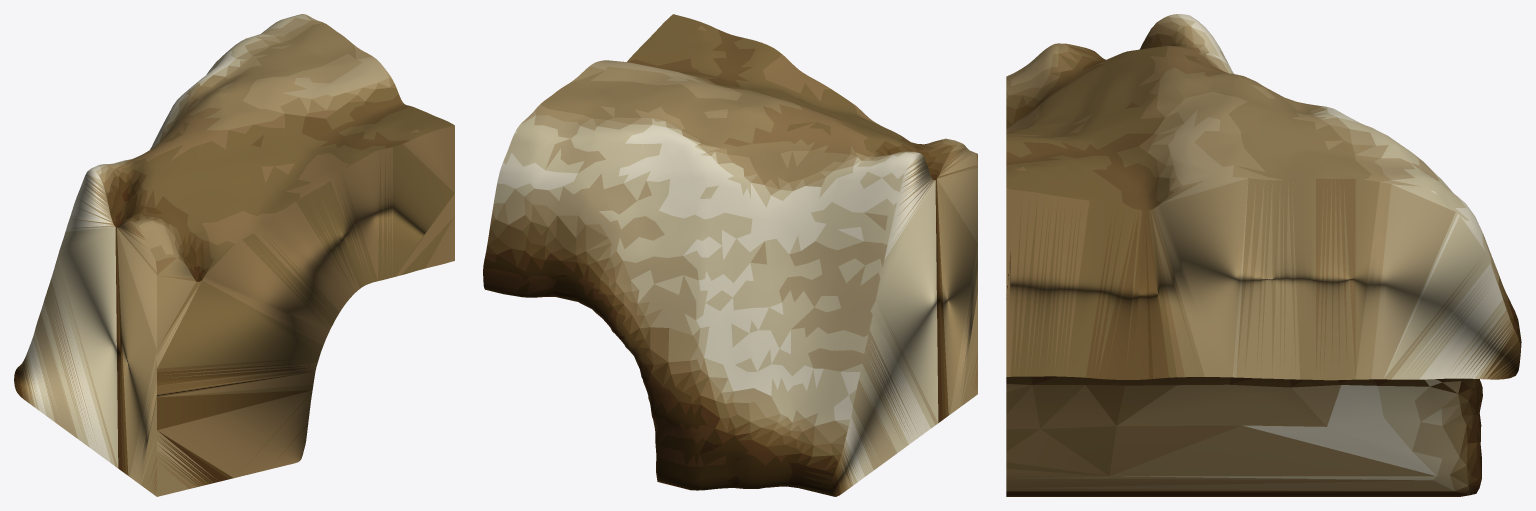
File: rock_arch_164.glb
The picture shows the model from 3 angles, left to right: view 1: azimuth 30°, elevation 25°; view 2: azimuth 150°, elevation 25°; view 3: azimuth 270°, elevation 25°; orthographic projection. The views are drawn at different scales.
Parts seen in each view (by area): view 1: rock_arch_164; view 2: rock_arch_164; view 3: rock_arch_164.
Part boxes in pixels (x1,y1,x2,y2): rock_arch_164: [14, 14, 454, 496]; rock_arch_164: [483, 14, 977, 496]; rock_arch_164: [1006, 14, 1521, 496].
Bounding box in the file's own units: 24 × 23.92 × 25.96.
